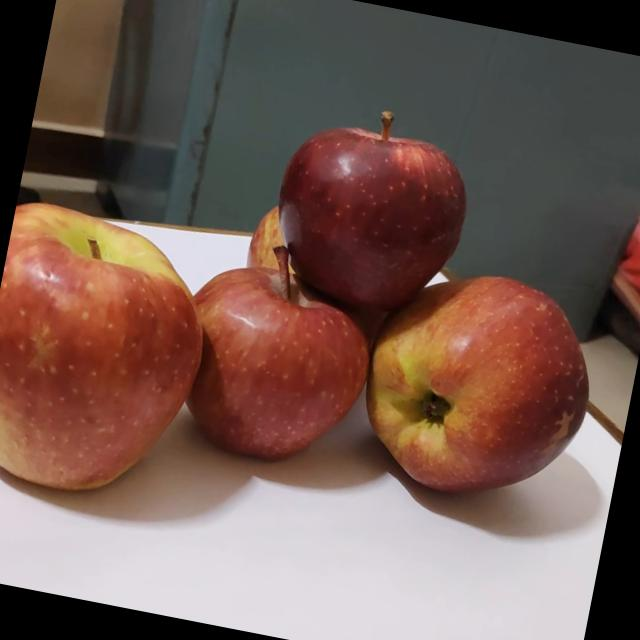apple: (334, 240, 617, 525), (0, 191, 224, 515), (159, 225, 392, 482), (256, 85, 488, 328), (240, 188, 328, 288)
